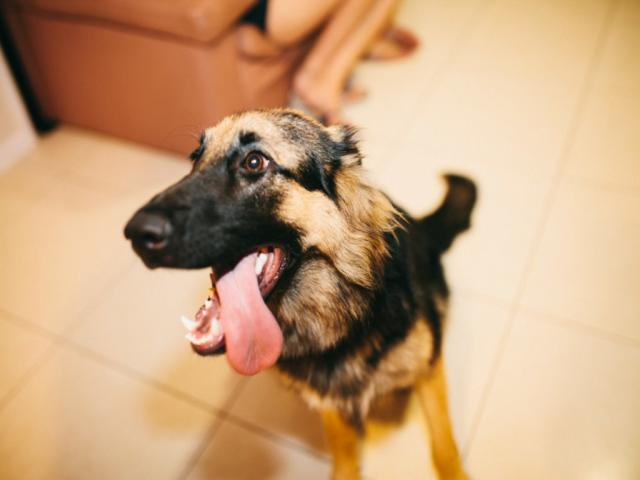Dog: (125, 104, 478, 480)
